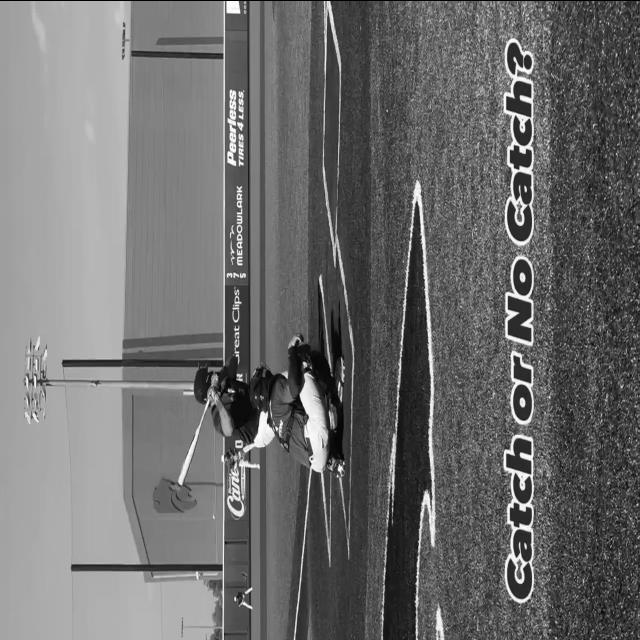bat: (178, 400, 210, 484)
shoe: (326, 451, 345, 478), (335, 356, 345, 402)
